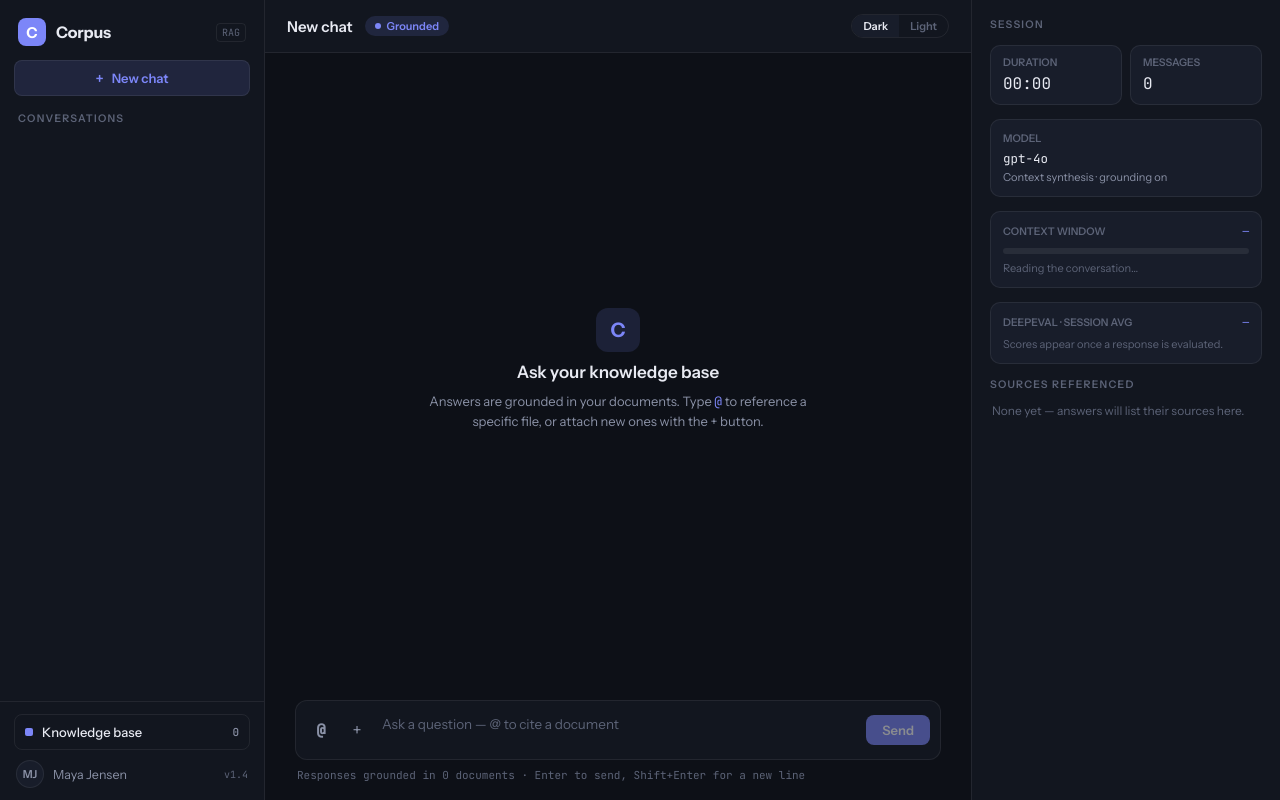
Scenario: a turn, end to end (FR-CMP-03 / FR-MSG-05 / R-54(2)) › sends the first question from the empty state, into the chat it just created
Expected: the heading "New chat" is shown, x1=287 y1=16 x2=352 y2=36
Type "What is the refund window?" into the text box.
click(619, 730); type("What is the refund window?")  # box x1=378 y1=709 x2=860 y2=751
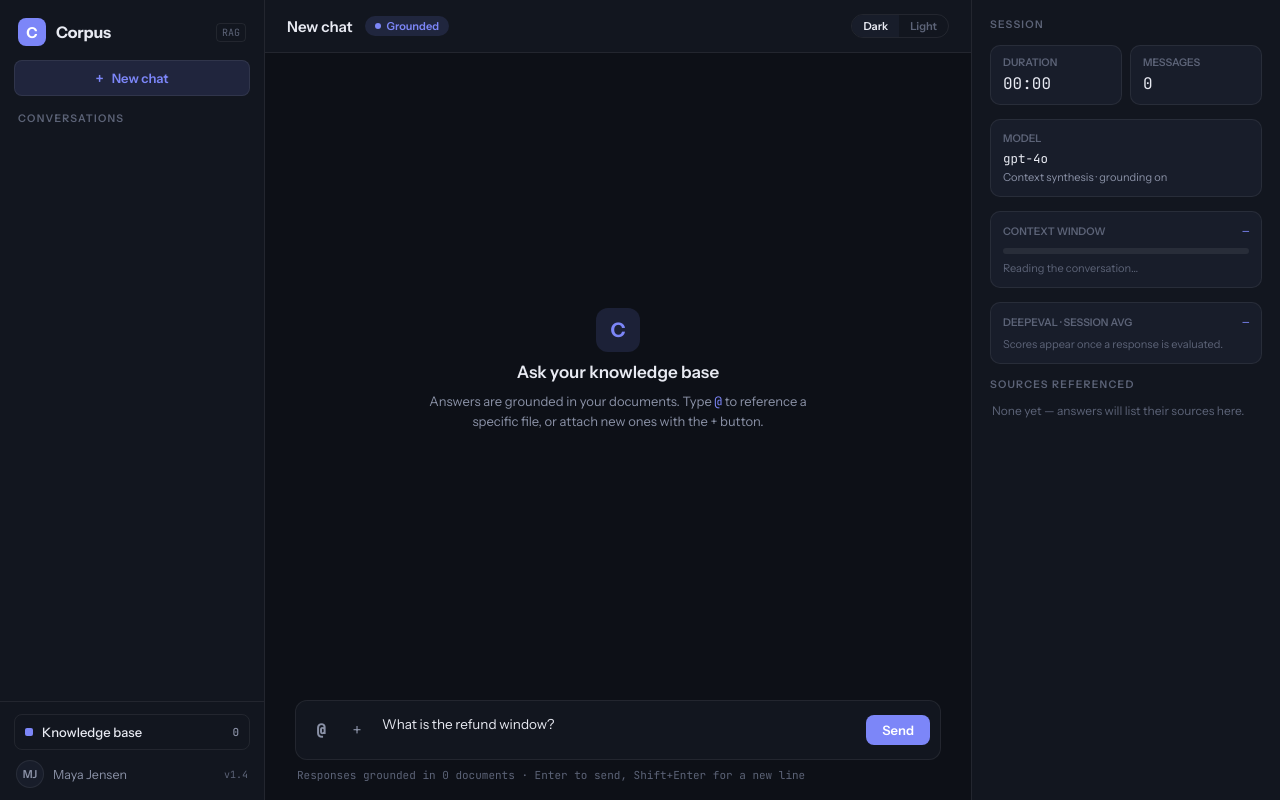
Click the button "Send".
click(898, 730)  # box x1=866 y1=715 x2=930 y2=745
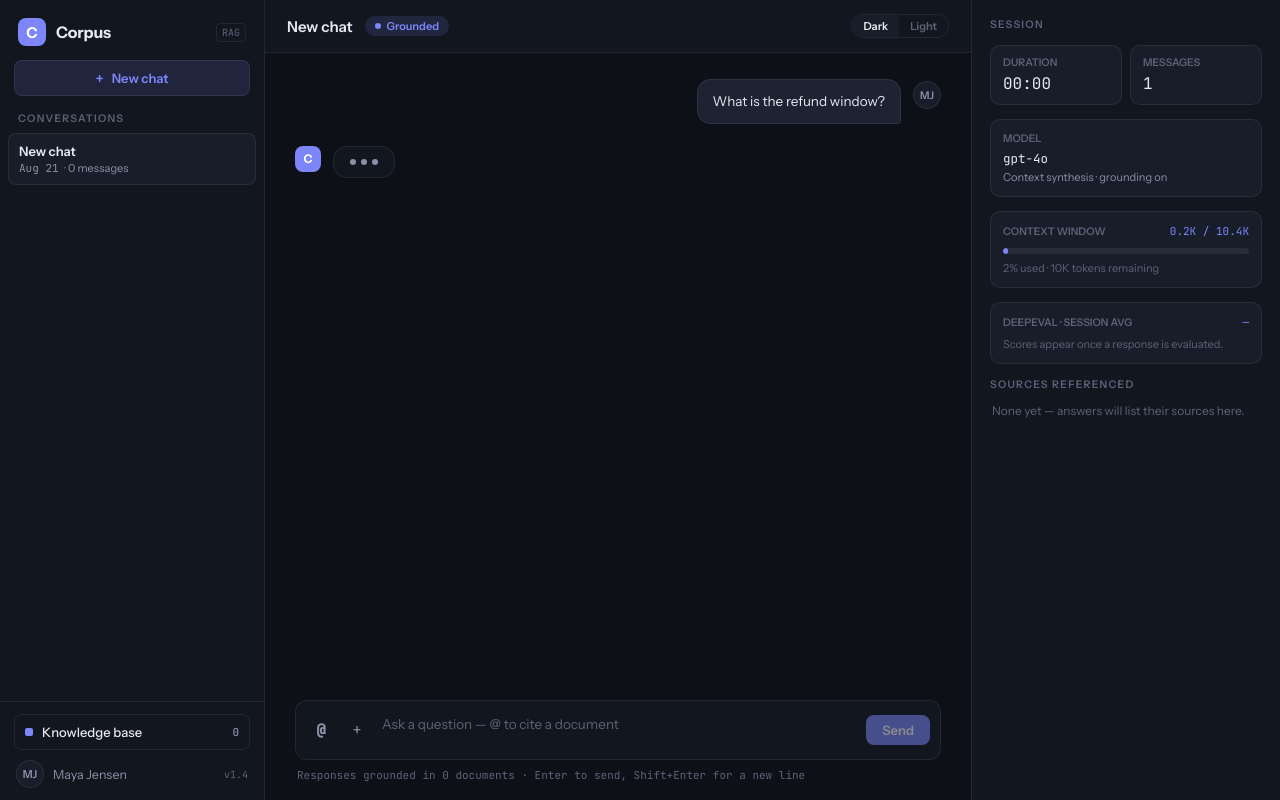
Expected: the text "What is the refund window?" is shown, x1=696 y1=79 x2=901 y2=124
